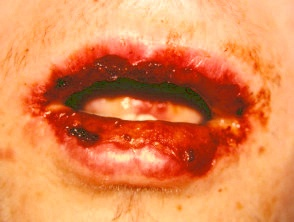SJS-TEN: (5, 20, 287, 200)
